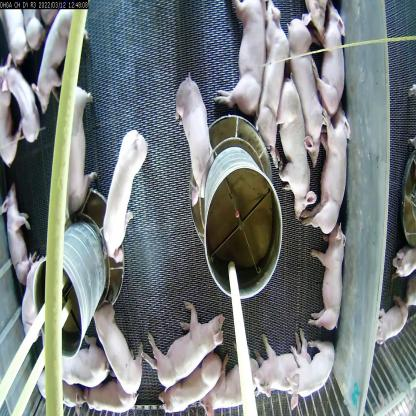Pig: (99, 133, 155, 249), (283, 17, 325, 168), (166, 68, 216, 190), (54, 86, 100, 215), (30, 9, 88, 104), (150, 304, 226, 374), (219, 0, 262, 115), (309, 115, 350, 231), (278, 88, 314, 220), (312, 226, 352, 340), (315, 7, 351, 119), (0, 56, 44, 147), (258, 6, 284, 156), (253, 330, 313, 394), (90, 310, 137, 389), (206, 355, 264, 415), (167, 355, 225, 409), (0, 184, 31, 284), (290, 342, 336, 407), (14, 258, 48, 343), (0, 70, 23, 178), (52, 352, 106, 392), (89, 382, 152, 416), (374, 300, 406, 343)
